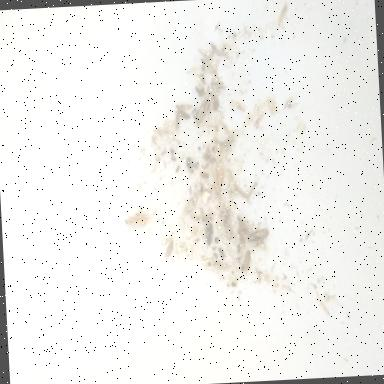pbw: (194, 97, 216, 125), (246, 226, 270, 248), (124, 212, 149, 226), (275, 4, 289, 26), (228, 98, 246, 112), (204, 222, 214, 244), (242, 249, 250, 272), (164, 240, 174, 257)
